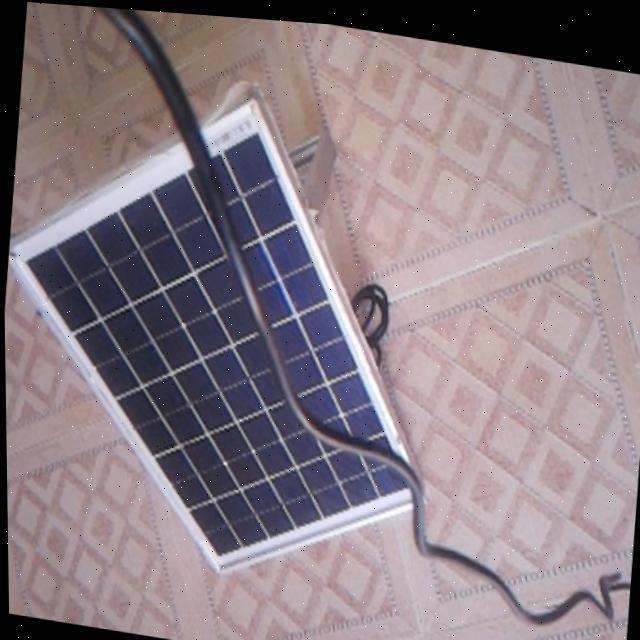Normal Solar Panel: (1, 59, 454, 600)
